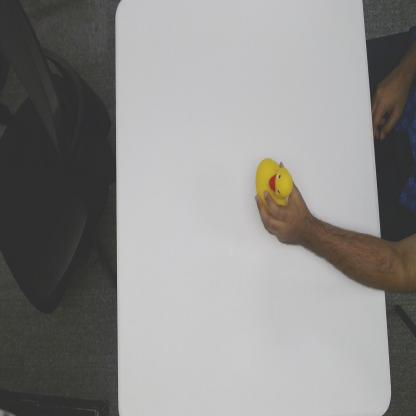Arm: (309, 210, 386, 291)
Duck: (256, 156, 294, 209)
Hand: (254, 190, 308, 249)
